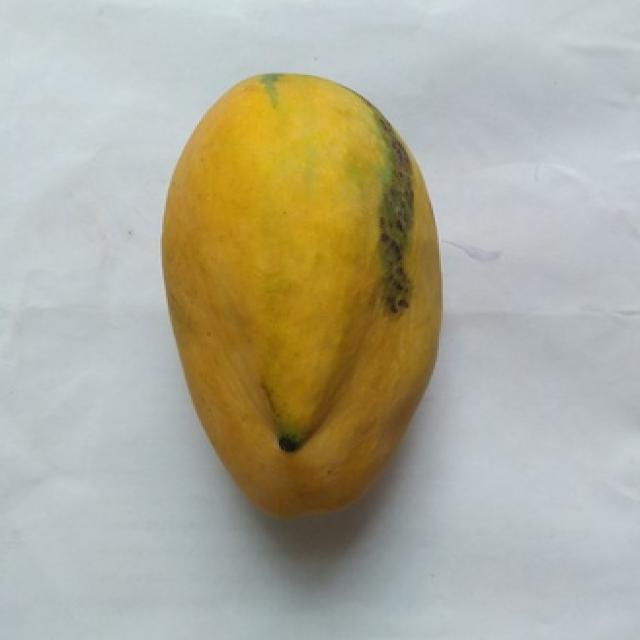Mango: (162, 75, 441, 512)
